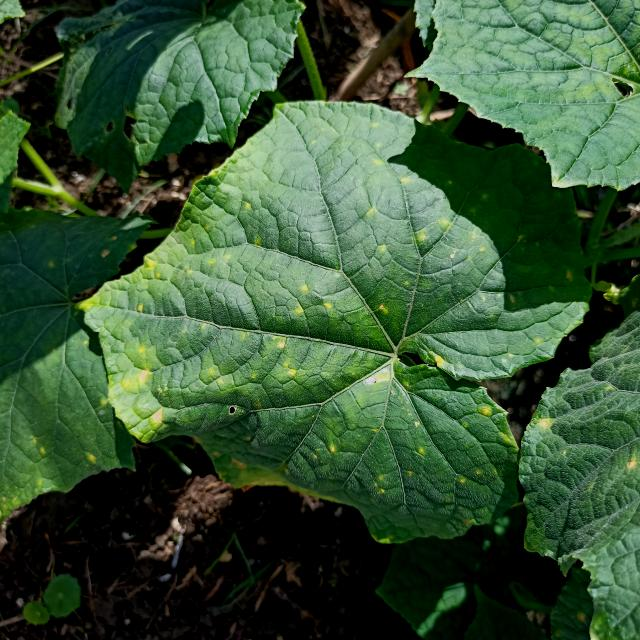disease_cucumber: (114, 272, 334, 443), (358, 135, 507, 271), (412, 402, 504, 494)
